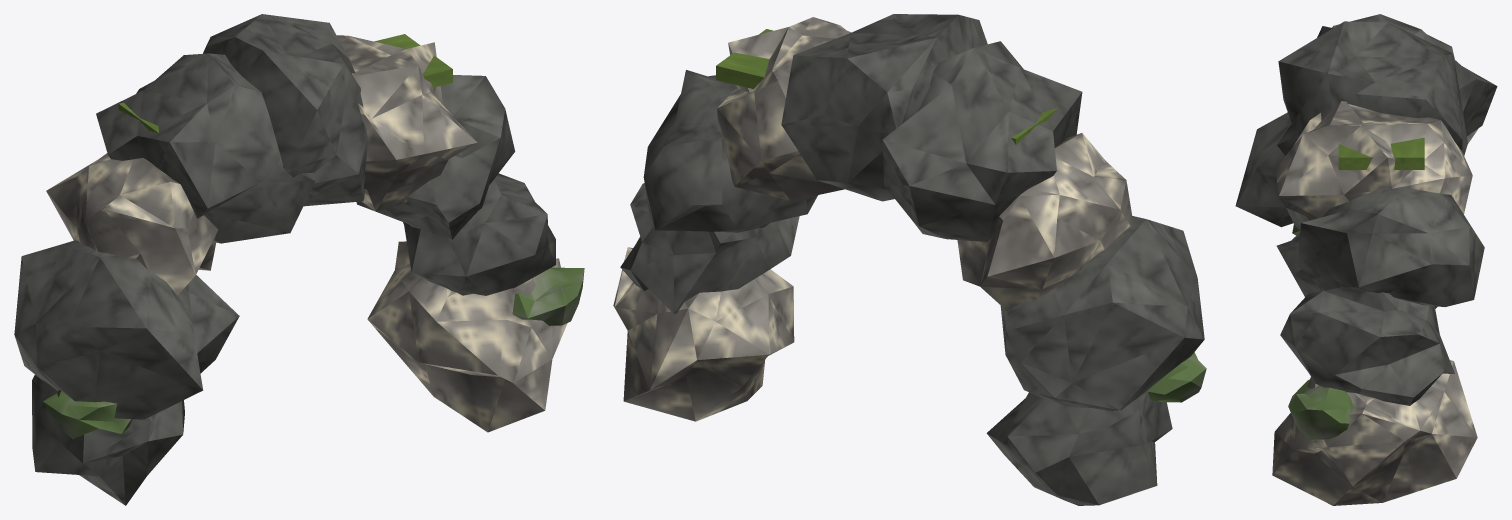
File: SM_CaveEntrance.fbx
3 renders of one model, left to right at view 1: azimuth 30°, elevation 25°; view 2: azimuth 150°, elevation 25°; view 3: azimuth 270°, elevation 25°, orthographic. The views are drawn at different scales.
Parts seen in each view (by area): view 1: SM_CaveEntrance; view 2: SM_CaveEntrance; view 3: SM_CaveEntrance.
Boxes of the visible parts, x1,y1,x2,y2 form: SM_CaveEntrance: [14, 14, 584, 505]; SM_CaveEntrance: [613, 14, 1206, 505]; SM_CaveEntrance: [1235, 14, 1497, 505].
Size of the model in its own units: 20.87 by 15.4 by 9.75.
Materials: 1 (1 with a texture image).
